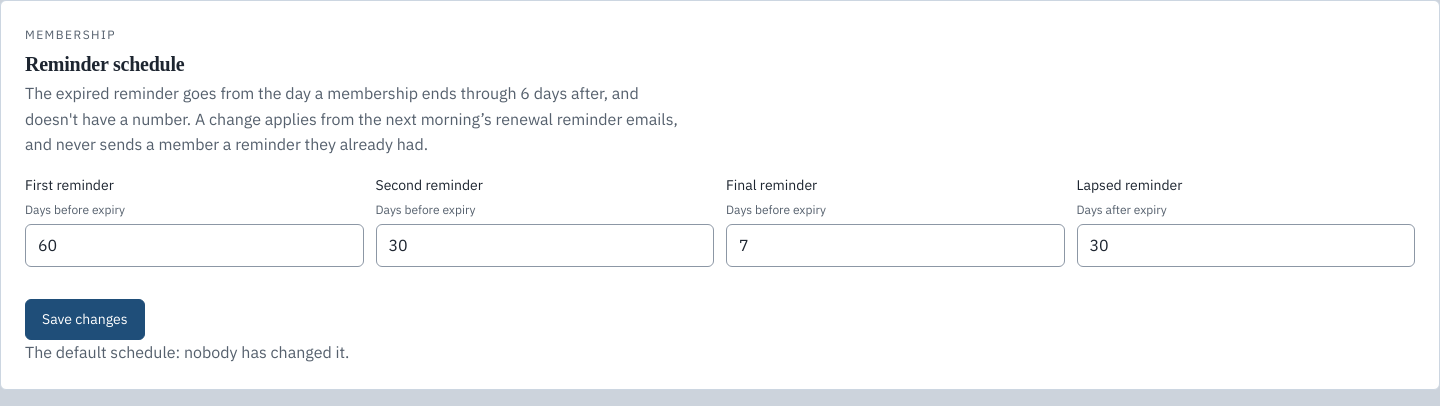
Test: <ReminderScheduleCard/> › shows the rule a refused day breaks under its field
Replace the text in the number field labelled "Lapsed reminder" with "3" at (1246, 245), box [1076,224,1415,267]
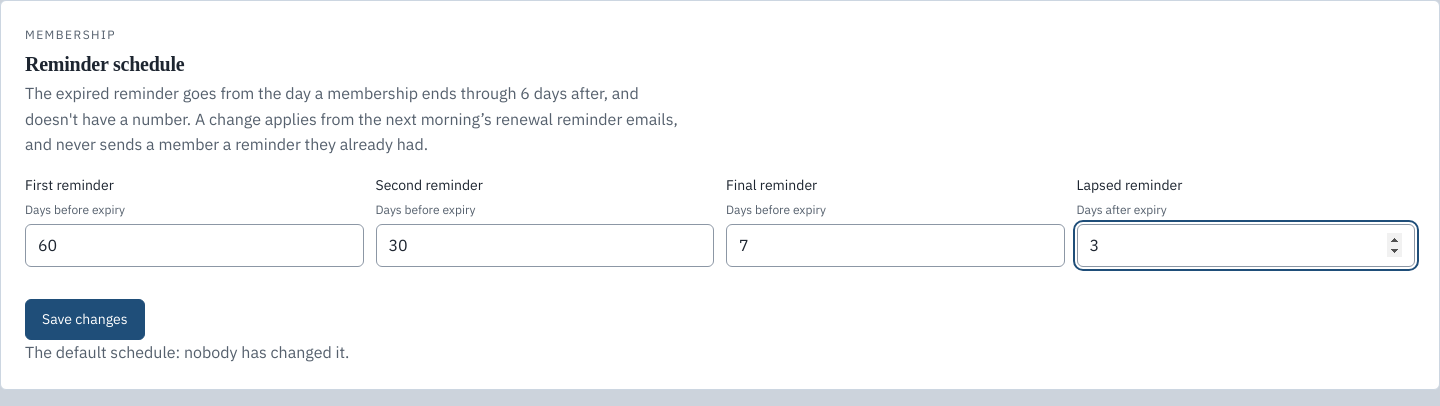
Click the button "Save changes" at (85, 319), box [25,299,144,340]
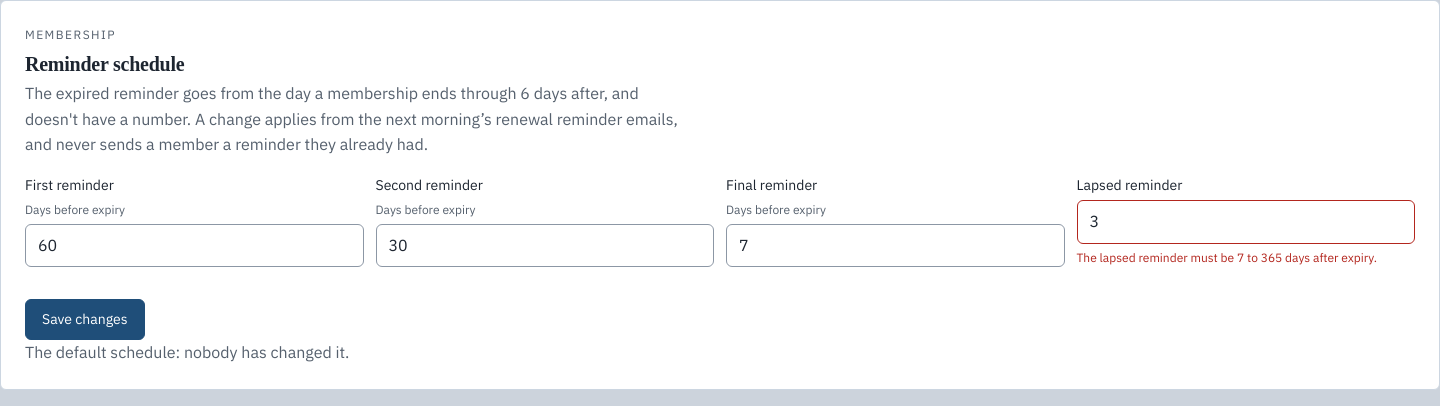
Now the text "The lapsed reminder must be 7 to 365 days after expiry." is shown, box [1076,248,1415,267]
